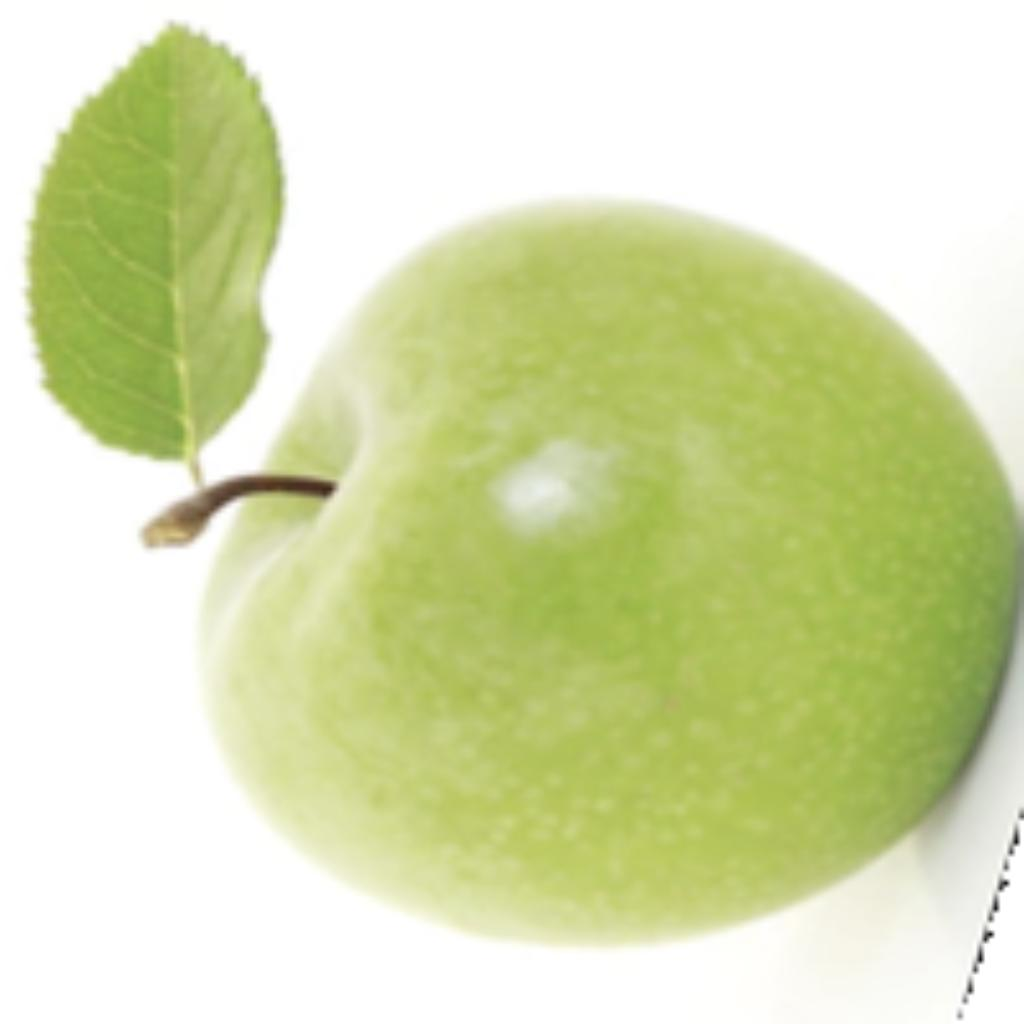apple: (15, 15, 1019, 978)
